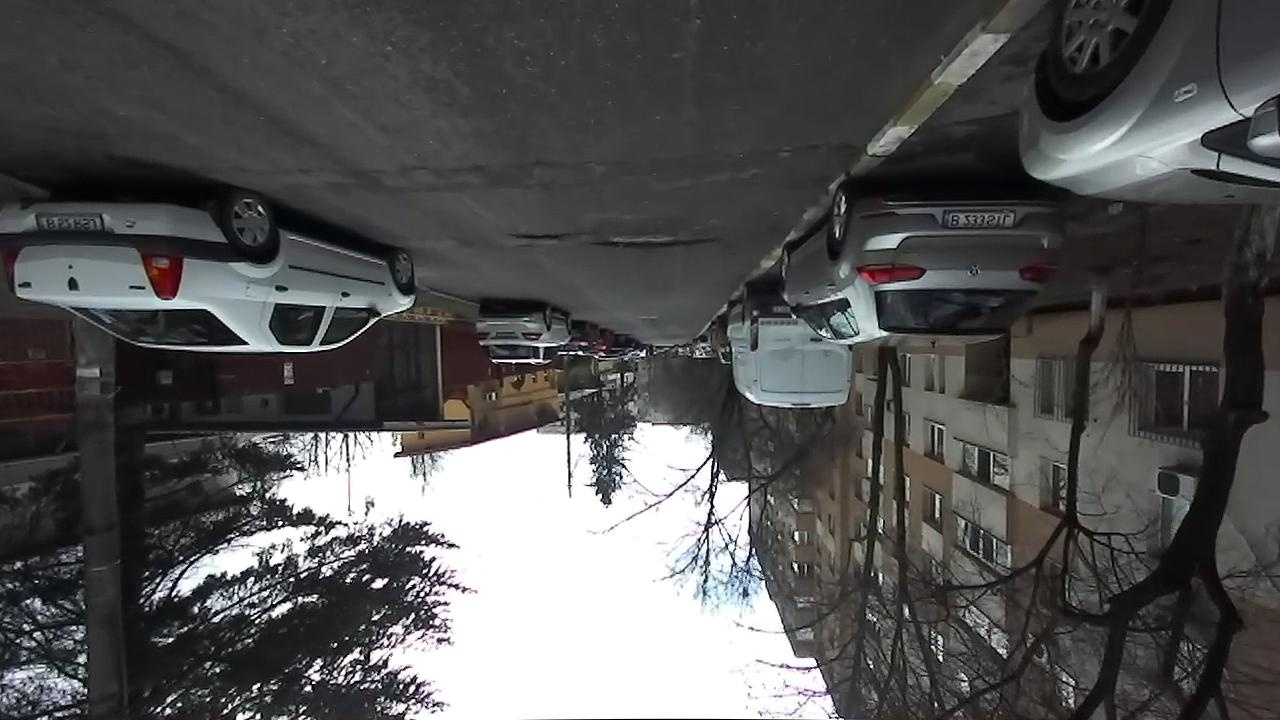pothole: (589, 229, 722, 250), (776, 135, 851, 160), (506, 230, 575, 243)
